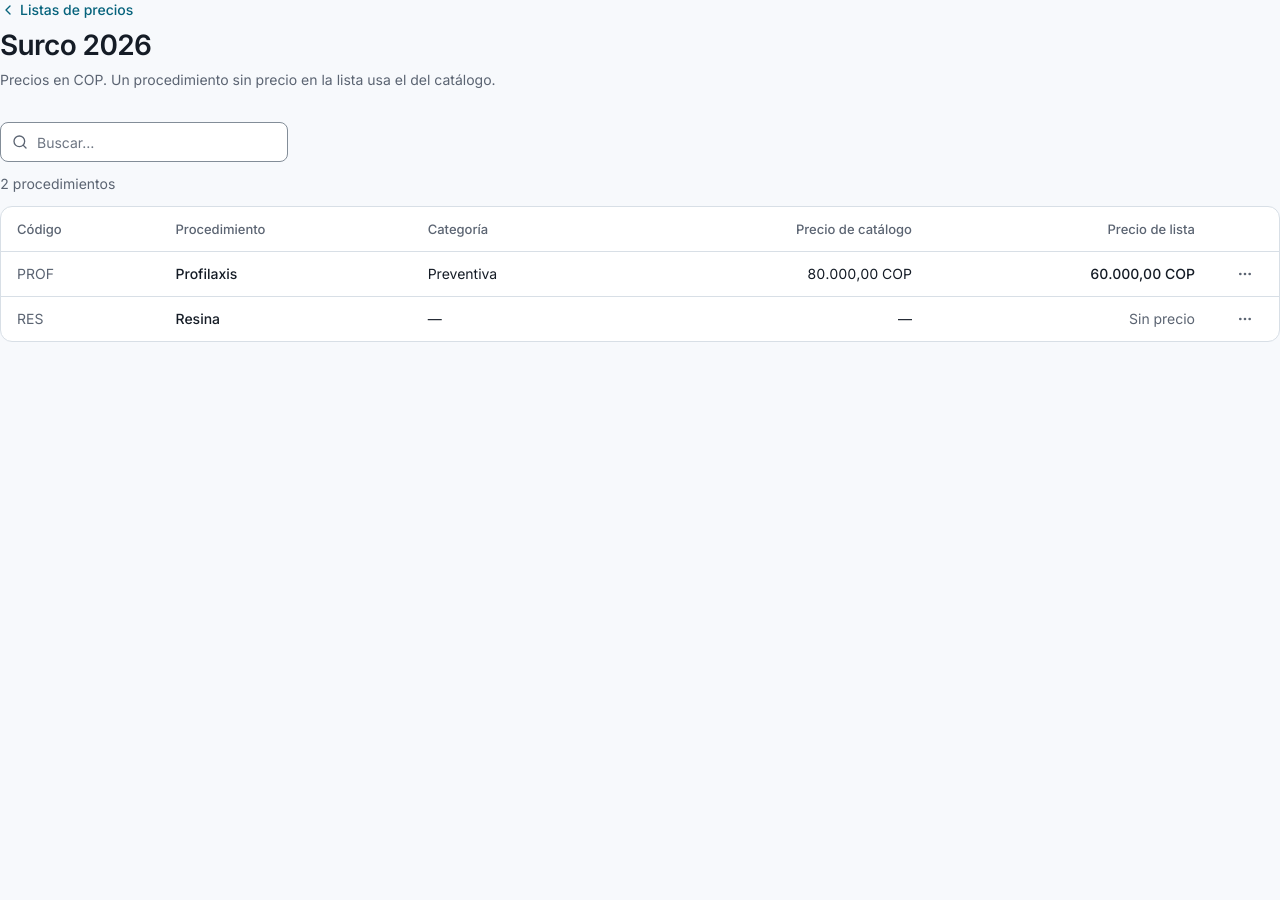
Scenario: PriceListItemsView (DX-105) › si quitar el precio falla, el diálogo lo dice y el precio sigue
Click the button named "Acciones de Profilaxis" at (1245,274), box [1227, 256, 1263, 292]
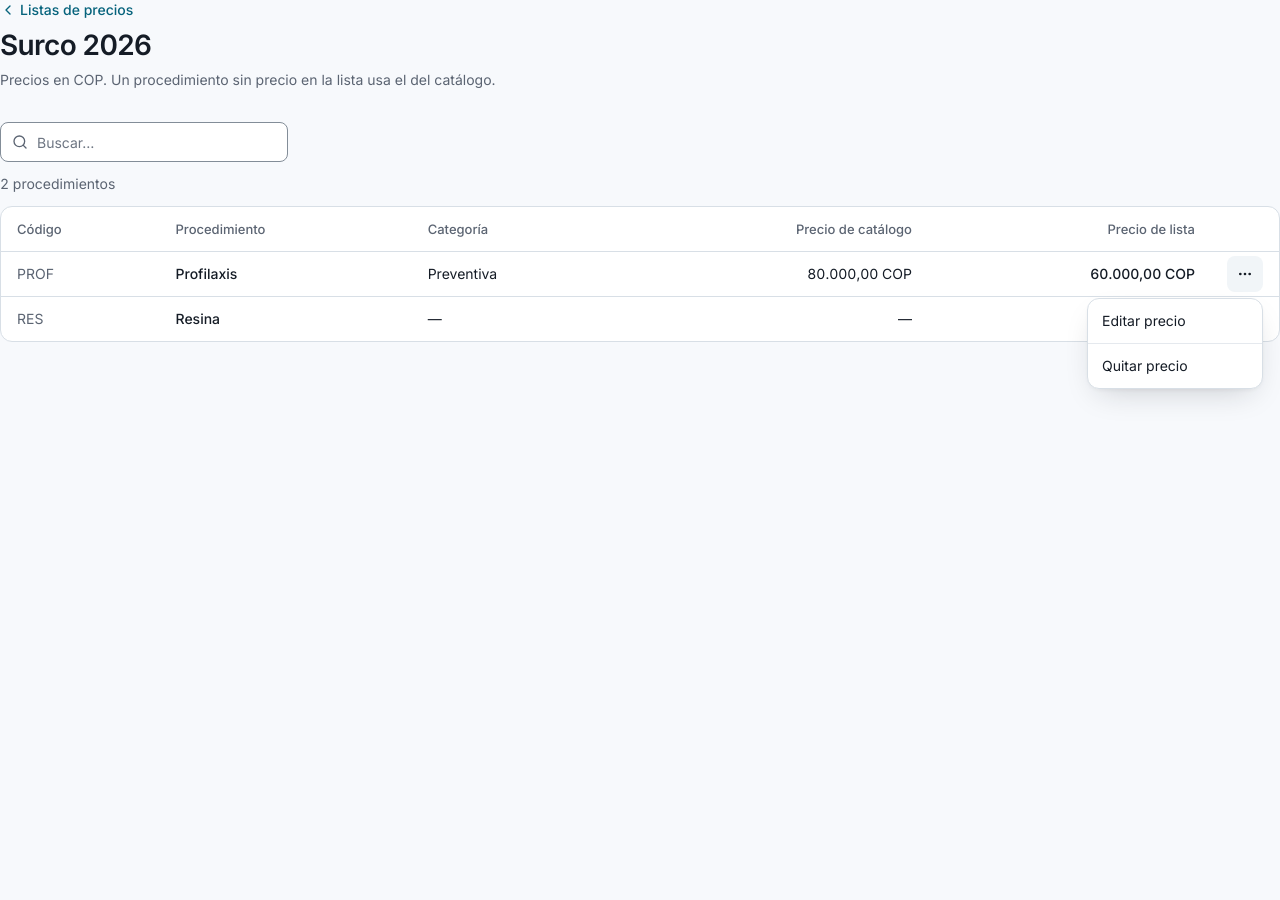
Click the menu item "Quitar precio" at (1145,366), box [1102, 357, 1188, 374]
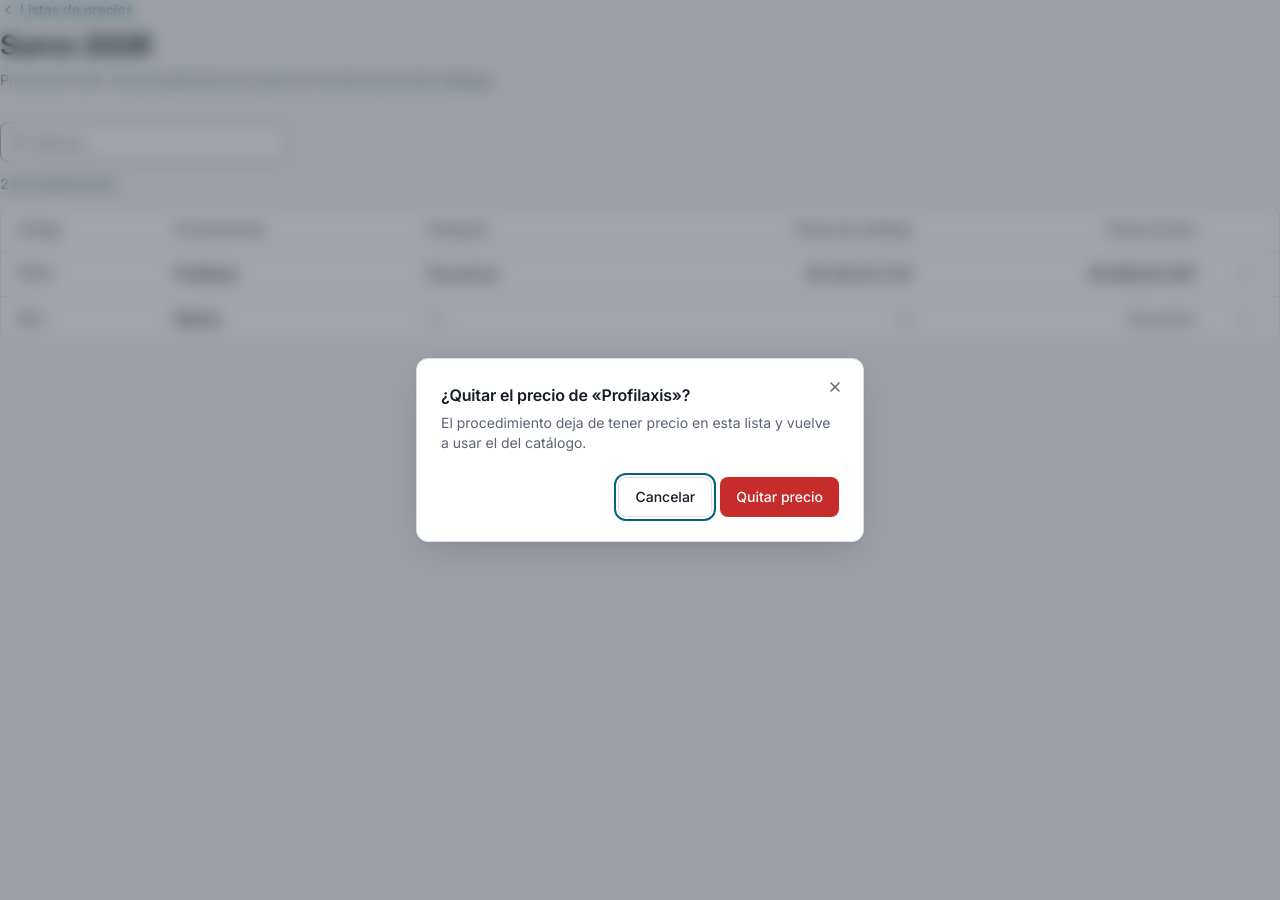
Click the button "Quitar precio" at (780,497), box [720, 477, 839, 517]
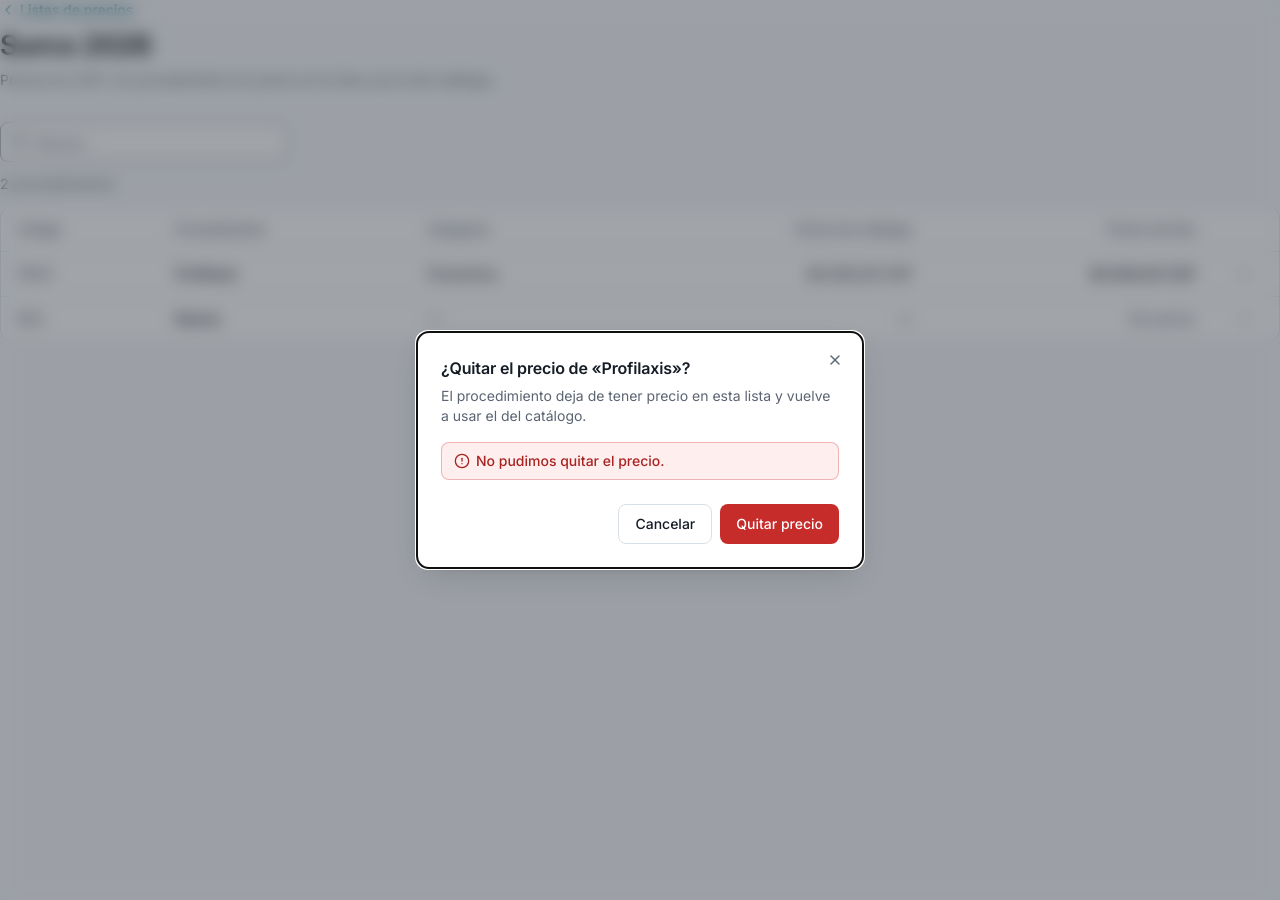
Now the text "No pudimos quitar el precio." is shown, box [476, 451, 664, 471]
